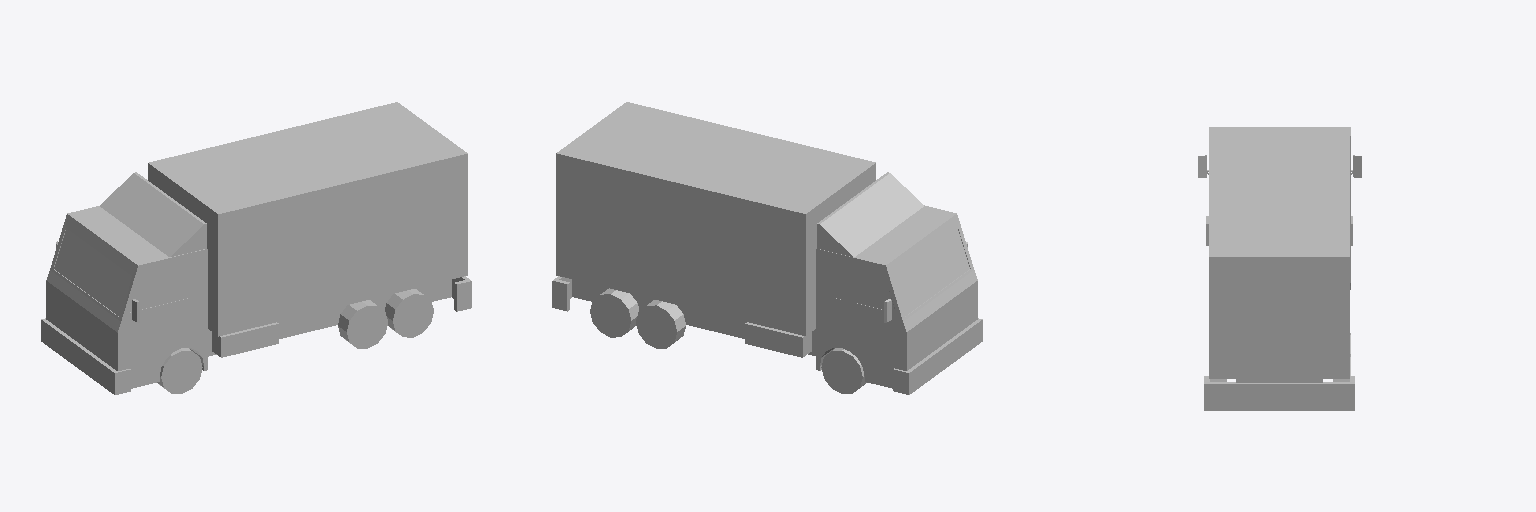
Rendered from Container.obj.
3 views of the same model, side by side, from view 1: azimuth 30°, elevation 25°; view 2: azimuth 150°, elevation 25°; view 3: azimuth 270°, elevation 25° (orthographic).
Visible parts, largest first — view 1: Body, Wheel_RL1, Wheel_RL2, Wheel_FL; view 2: Body, Wheel_RR1, Wheel_RR2, Wheel_FR; view 3: Body.
Boxes of the visible parts, <box> form: Body: <box>41,102,471,394</box>; Wheel_RL1: <box>338,300,387,348</box>; Wheel_RL2: <box>385,289,433,337</box>; Wheel_FL: <box>157,348,202,393</box>; Body: <box>552,102,982,394</box>; Wheel_RR1: <box>636,300,685,348</box>; Wheel_RR2: <box>590,288,638,337</box>; Wheel_FR: <box>821,348,866,393</box>; Body: <box>1198,127,1361,410</box>.
Bounding box in the file's own units: 358 × 164 × 143.